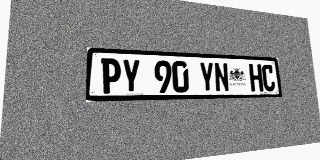0: (172, 61, 189, 93)
9: (154, 60, 172, 93)
C: (261, 64, 276, 91)
H: (249, 64, 264, 92)
N: (214, 62, 230, 92)
P: (101, 58, 121, 94)
Y: (122, 59, 141, 93), (199, 62, 215, 92)
